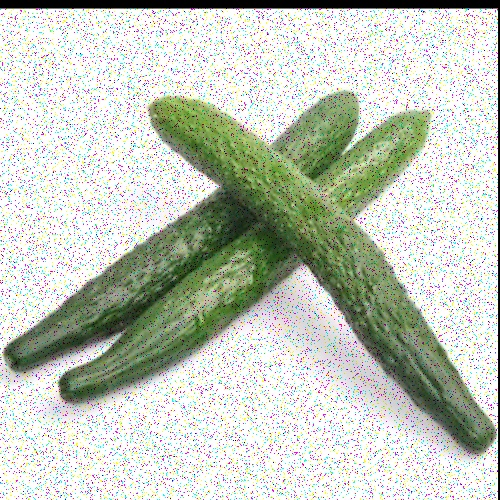cucumber: (153, 94, 491, 444), (69, 108, 431, 405), (6, 92, 354, 357)
